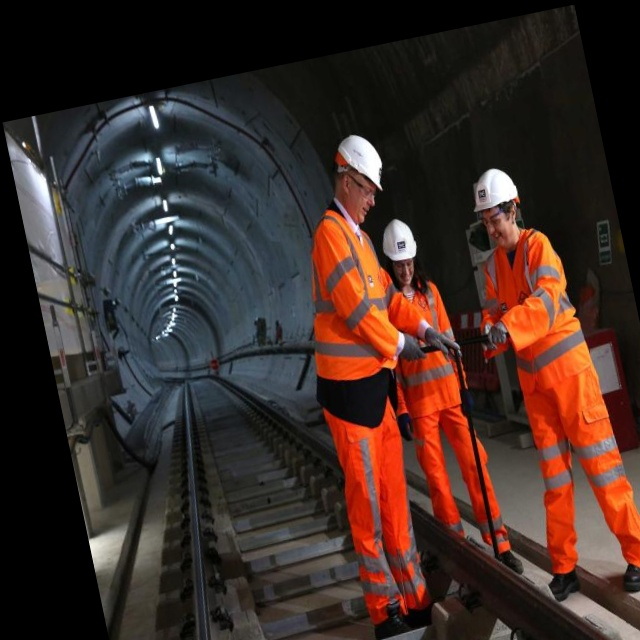Con_Chaleco: (286, 203, 399, 377), (473, 229, 589, 382), (376, 274, 468, 421)
